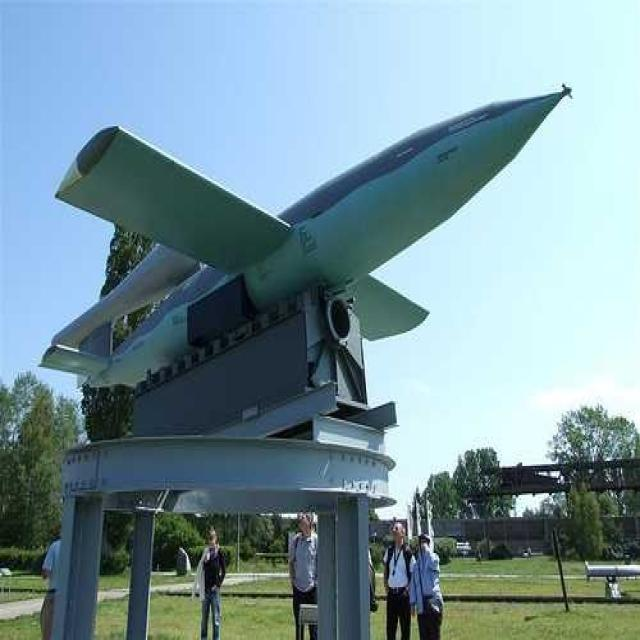missile: (43, 73, 578, 430)
